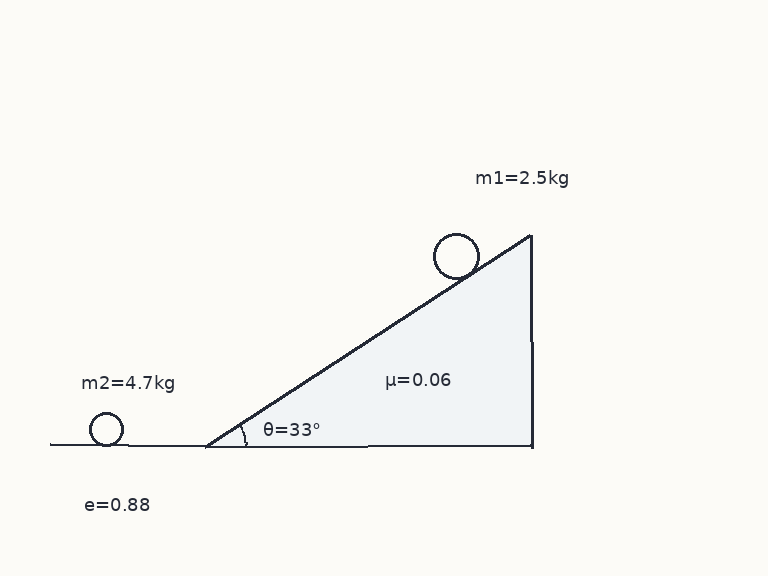ball: (431, 231, 481, 281), (87, 410, 125, 448)
ramp: (204, 233, 533, 448)
